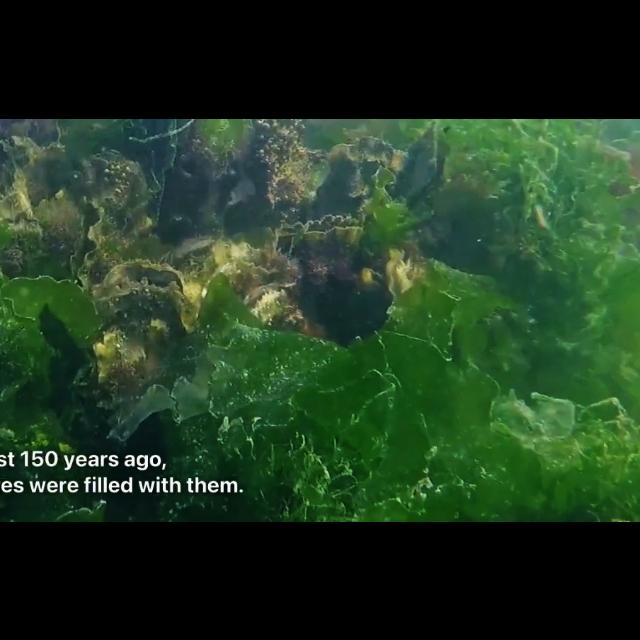Oyster-Closed: (314, 132, 410, 218), (71, 141, 153, 241), (244, 118, 312, 216)
Oyster-Open: (91, 252, 190, 382), (191, 231, 301, 303), (12, 138, 78, 238), (69, 186, 133, 282), (396, 120, 450, 208), (273, 206, 365, 254), (242, 275, 308, 327), (1, 192, 42, 232), (383, 241, 413, 295), (353, 266, 387, 294)
